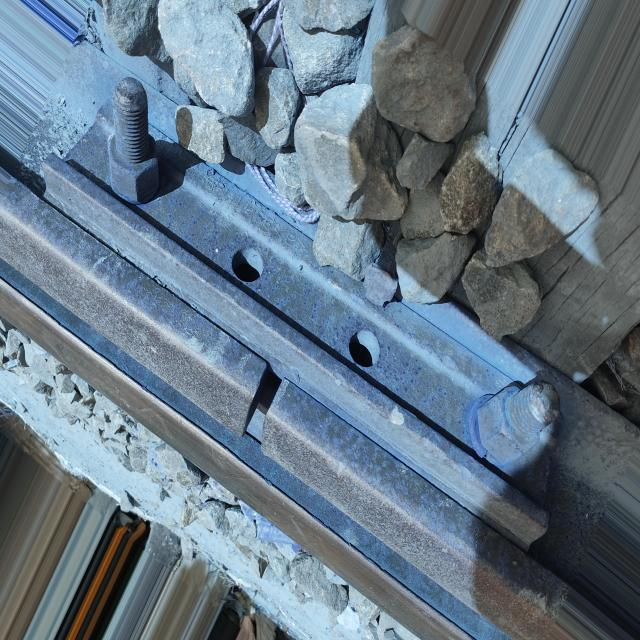Defective Joint: (6, 66, 588, 573)
